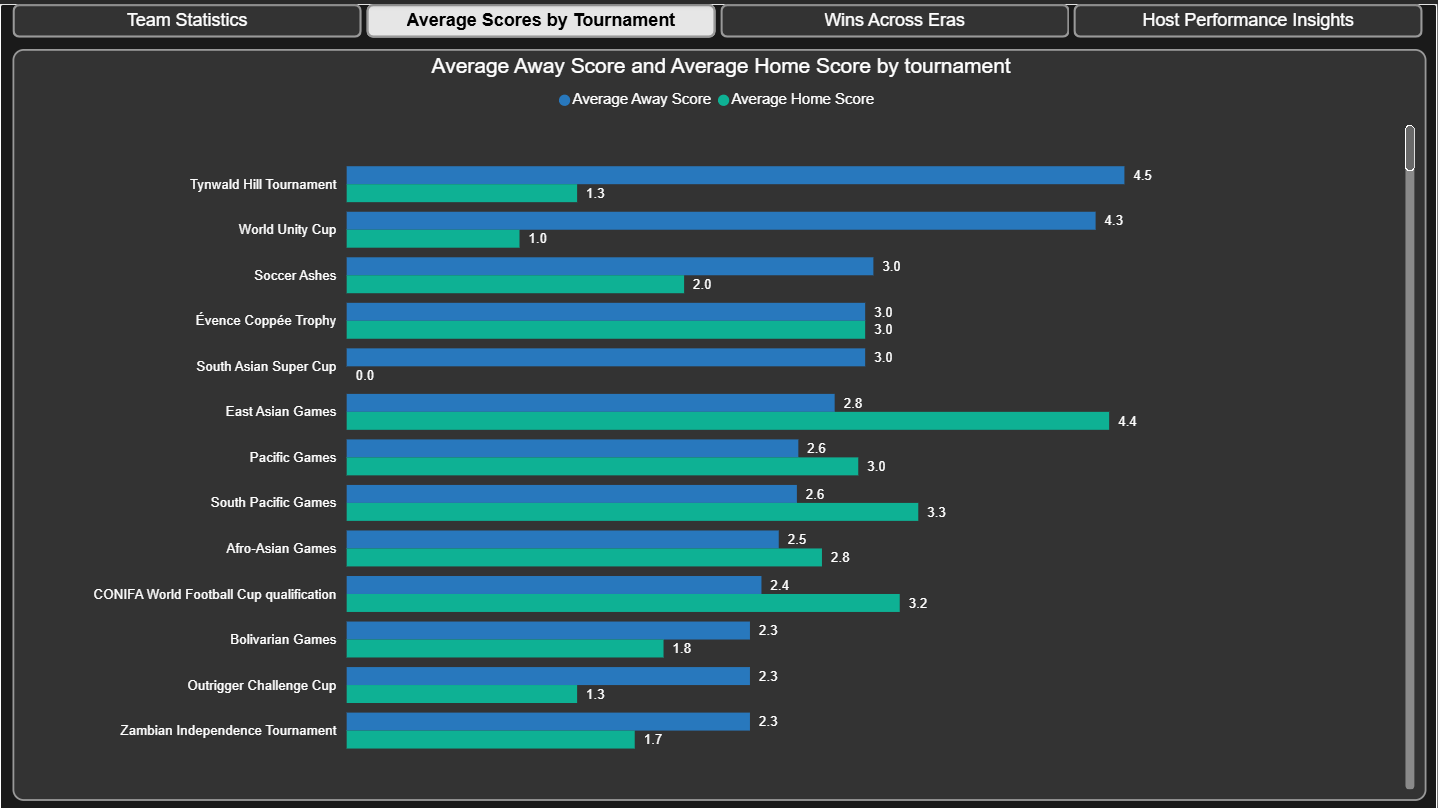

What the dashboard file says about the page in this screenshot:
{"tool":"powerbi","page":{"name":"Average Scores by Tournament ","canvas":[1280,720],"ordinal":1},"visuals":[{"type":"pageNavigator","box":[11,0,1258.3,30.2],"z":1},{"type":"clusteredBarChart","fields":{"Category":["results.tournament"],"Y":["_Measures.Average Away Score","_Measures.Average Home Score"]},"box":[11,40.5,1258.9,669.9],"z":501}]}

Visuals, with their boxes in screenshot pixels (x1, y1, x2, y2), scaled from the page's 1280x720 canvas onto the 1438x808 screenshot:
pageNavigator: (x1=12, y1=0, x2=1426, y2=34)
clusteredBarChart - results.tournament x _Measures.Average Away Score: (x1=12, y1=45, x2=1427, y2=797)
